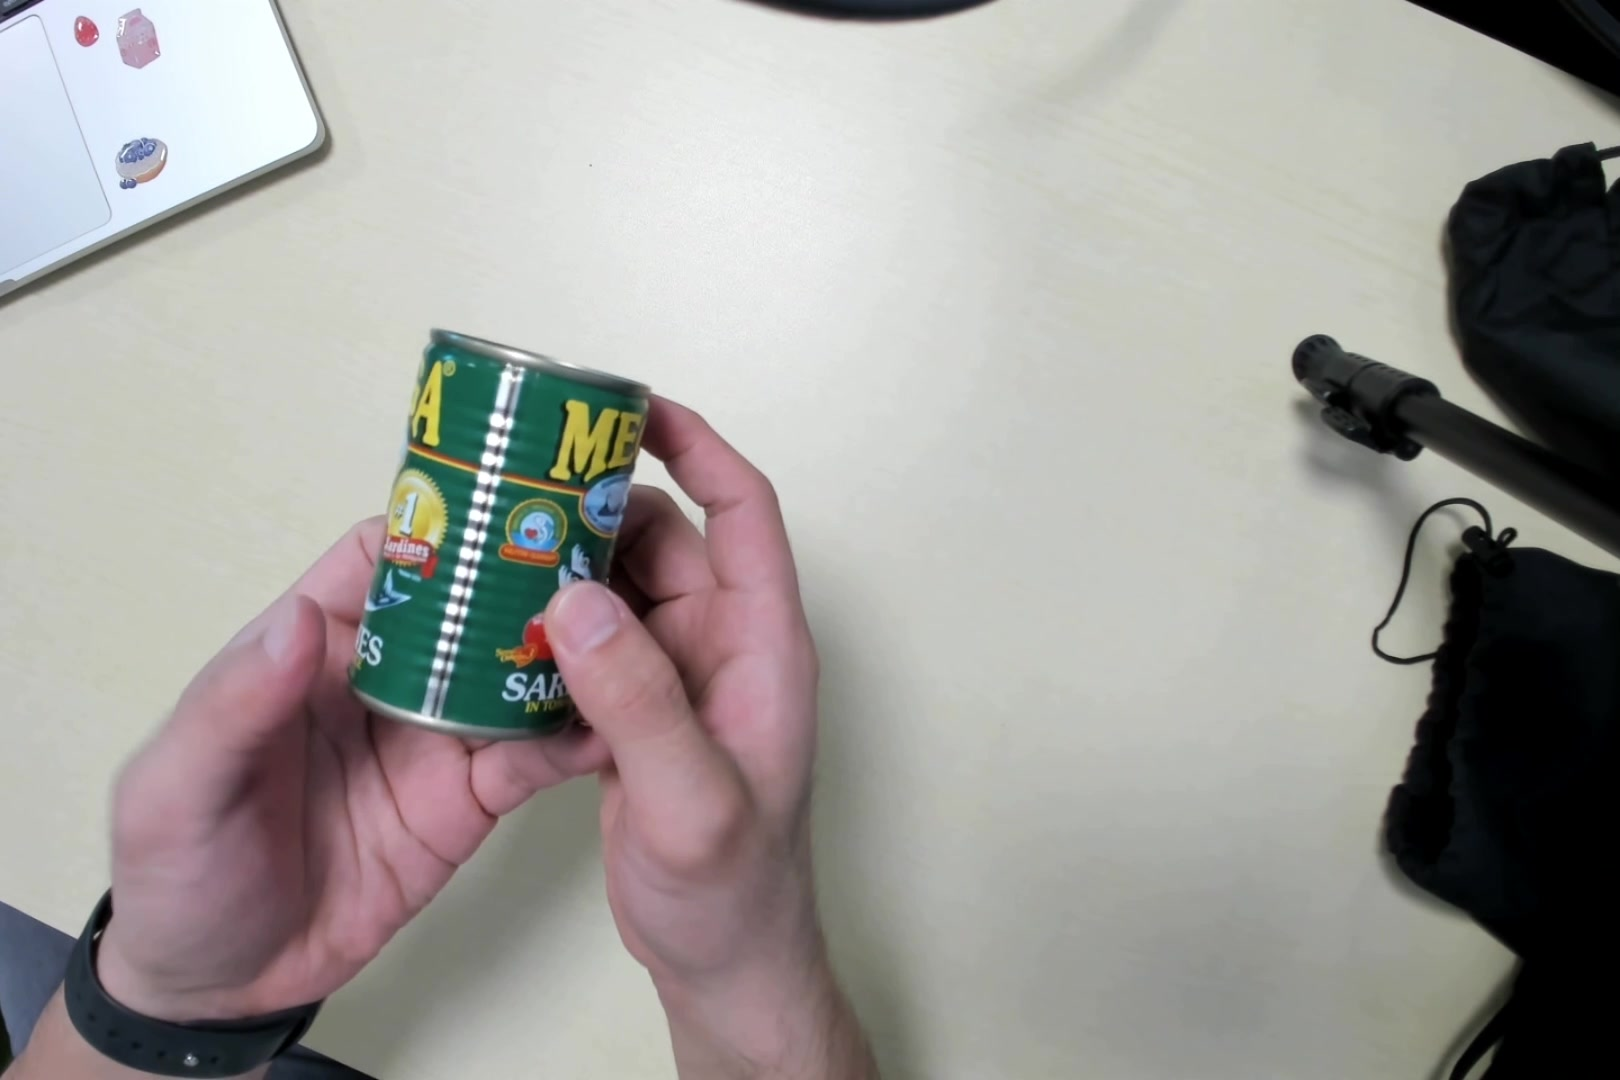CannedSardingMackerel_100-199g_NonHalal_NonHealthy: (346, 319, 651, 736)
